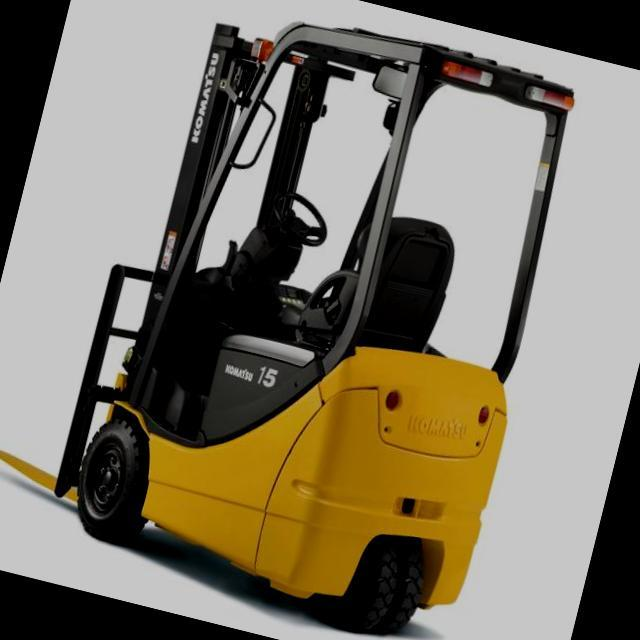forklift: (22, 0, 600, 640)
